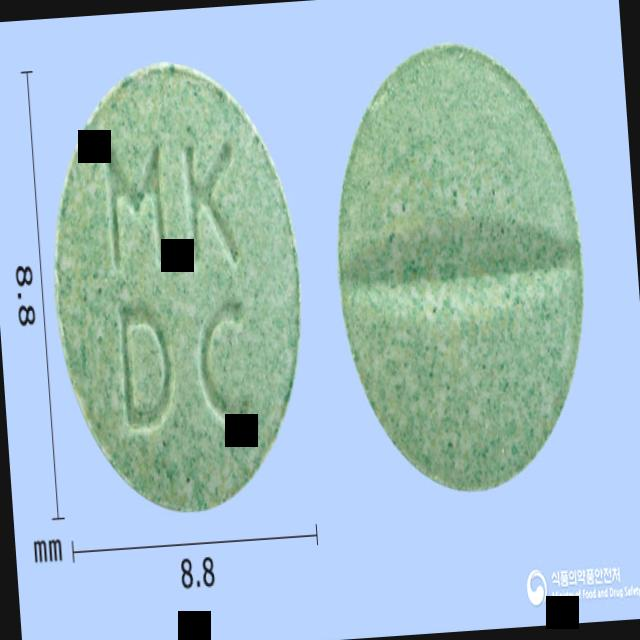Bydoxy: (37, 46, 319, 529)
